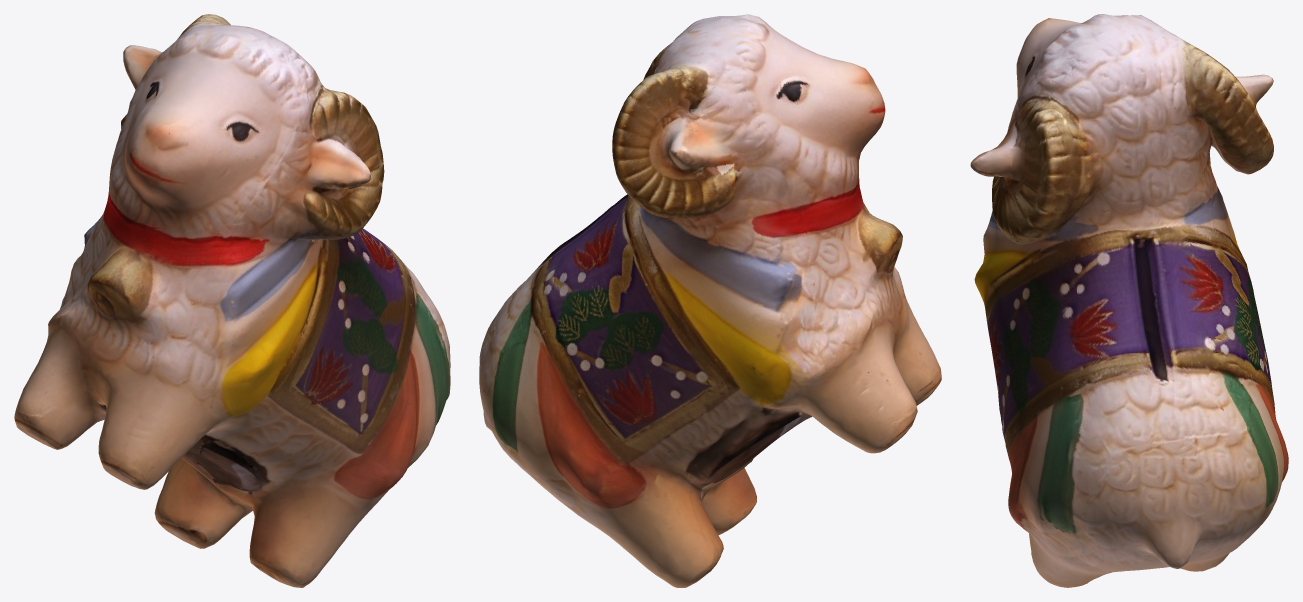
Rendered from Sheep.obj.
3 renders of one model, left to right at view 1: azimuth 30°, elevation 25°; view 2: azimuth 150°, elevation 25°; view 3: azimuth 270°, elevation 25°, orthographic. The views are drawn at different scales.
Parts seen in each view (by area): view 1: Sheep; view 2: Sheep; view 3: Sheep.
Part boxes in pixels (x1,y1,x2,y2): Sheep: (14,14,450,587); Sheep: (479,14,941,587); Sheep: (970,14,1288,587).
Bounding box in the file's own units: 0.1339 × 0.1667 × 0.0879.
1 material, 1 textured.
